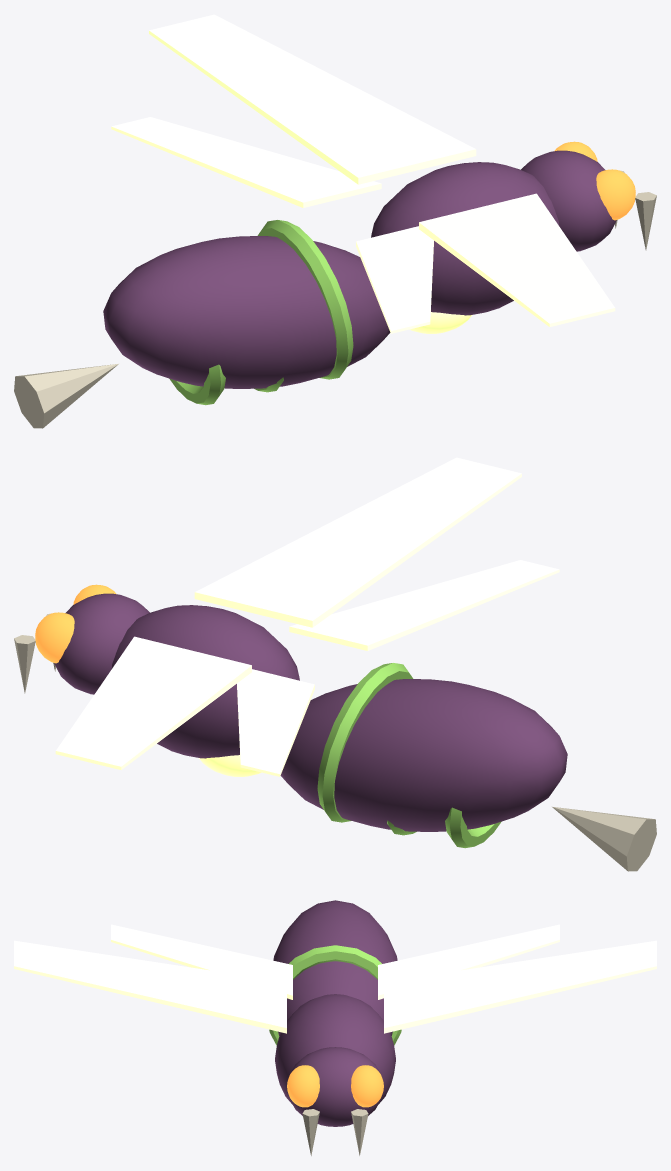
File: ins_fighter.glb
3 renders of one model, top to bottom at view 1: azimuth 30°, elevation 25°; view 2: azimuth 150°, elevation 25°; view 3: azimuth 270°, elevation 25°, orthographic. The views are drawn at different scales.
Visible parts, largest first — view 1: ins_fighter, wing_l_m, wing_r_m; view 2: ins_fighter, wing_r_m, wing_l_m; view 3: ins_fighter, wing_l_m, wing_r_m.
Part boxes in pixels (x1,y1,x2,y2): ins_fighter: (14,141,656,428); wing_l_m: (111,14,476,207); wing_r_m: (356,193,615,333); ins_fighter: (14,584,656,871); wing_r_m: (194,457,559,650); wing_l_m: (55,636,314,776); ins_fighter: (269,900,401,1155); wing_l_m: (378,924,656,1033); wing_r_m: (14,924,292,1033).
Bounding box in the file's own units: 0.9404 × 0.2748 × 1.06.
